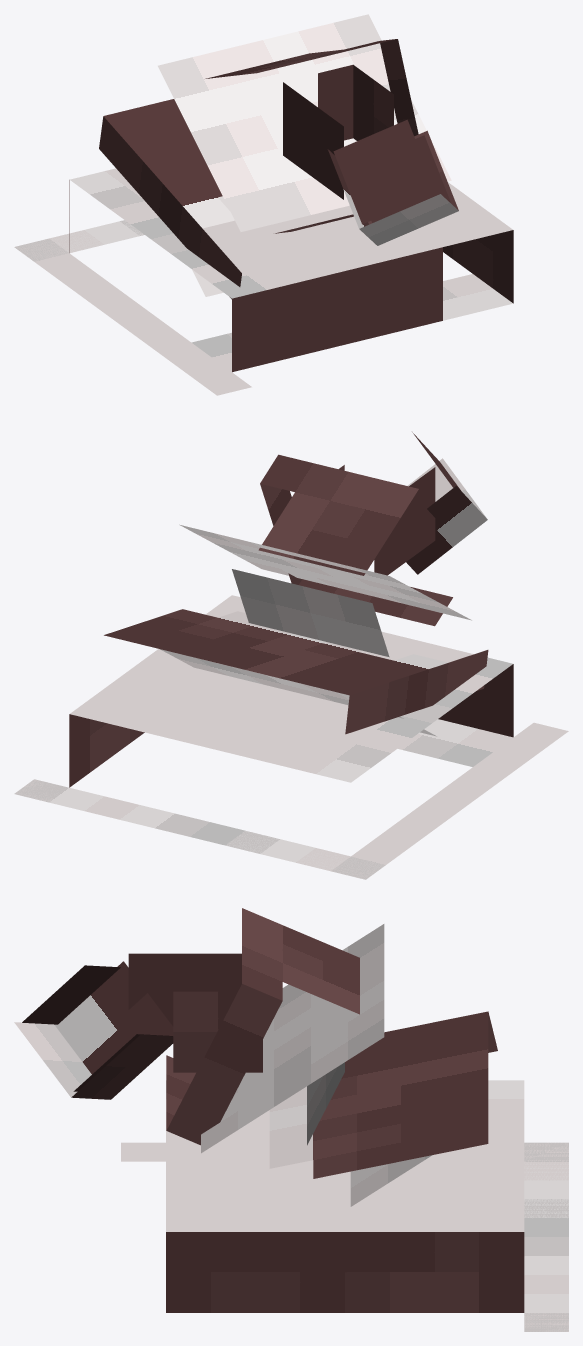
The model's file is shapka_v2.obj.
3 renders of one model, top to bottom at view 1: azimuth 30°, elevation 25°; view 2: azimuth 150°, elevation 25°; view 3: azimuth 270°, elevation 25°, orthographic. The views are drawn at different scales.
Parts seen in each view (by area): view 1: cube; view 2: cube; view 3: cube.
Boxes of the visible parts, box(x1,y1,x2,y2) form: cube: box(14, 14, 513, 395); cube: box(14, 432, 568, 879); cube: box(14, 908, 568, 1331).
Bounding box in the file's own units: 0.625 × 0.44 × 0.7745.
